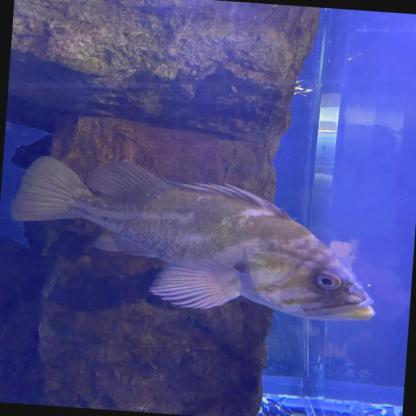fish: (11, 150, 398, 321)
